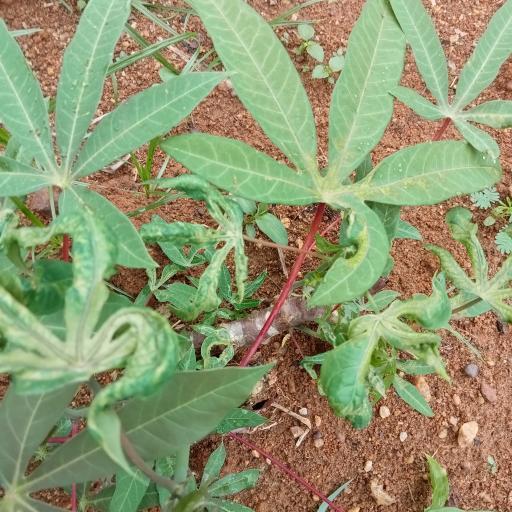Cassava_Mosaic: (174, 0, 512, 297), (0, 2, 208, 261), (0, 258, 174, 487), (321, 285, 451, 423)
